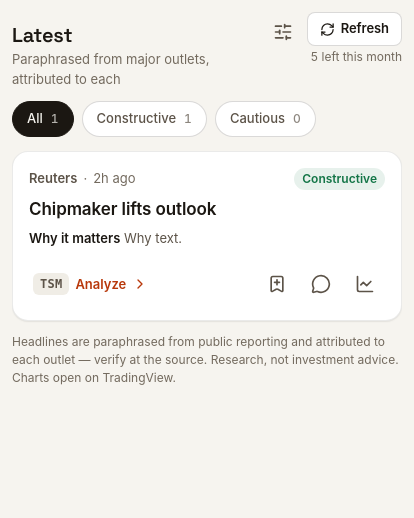
Test: HeadlinesPane › shows a refresh error inline with a retry
Expected: the heading "Chipmaker lifts outlook" is shown, x1=29 y1=199 x2=216 y2=219
Click the button "Refresh": click(354, 29) x1=307 y1=12 x2=402 y2=46
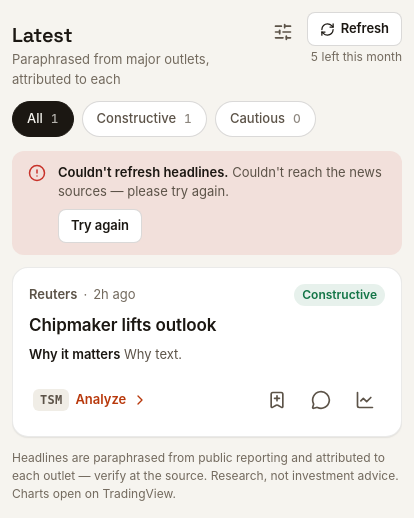
Expected: the heading "Chipmaker lifts outlook" is shown, x1=29 y1=315 x2=216 y2=335
Expected: the text "Couldn't refresh headlines." is shown, x1=58 y1=164 x2=228 y2=180
Expected: the button "Try again" is shown, x1=58 y1=209 x2=142 y2=243
